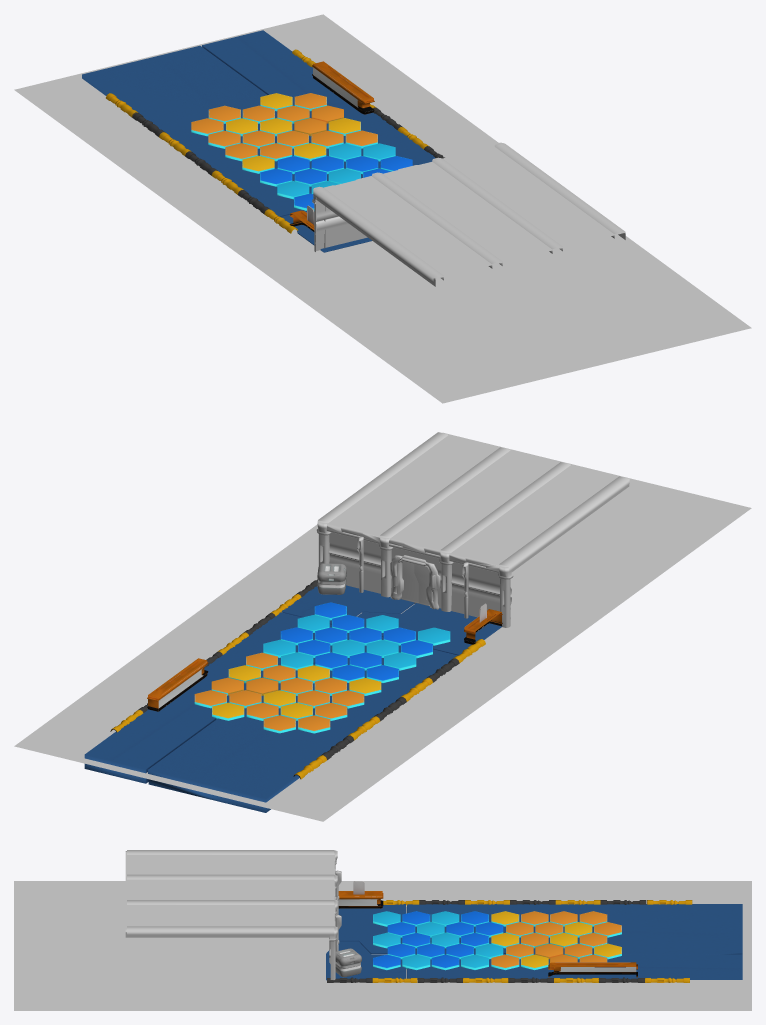
The model's file is Arena v3.fbx.
The picture shows the model from 3 angles, top to bottom: view 1: azimuth 30°, elevation 25°; view 2: azimuth 150°, elevation 25°; view 3: azimuth 270°, elevation 25°; orthographic projection. The views are drawn at different scales.
Visible parts, largest first — view 1: Plane.001, Plane.002; view 2: Plane.001, Plane.002; view 3: Plane.001, Plane.002.
Boxes of the visible parts, bbox=[...] form: Plane.001: bbox=[14, 14, 751, 403]; Plane.002: bbox=[191, 93, 412, 210]; Plane.001: bbox=[14, 432, 751, 821]; Plane.002: bbox=[194, 602, 450, 733]; Plane.001: bbox=[14, 850, 751, 1010]; Plane.002: bbox=[373, 911, 621, 970].
Size of the model in its own units: 1932 by 441 by 4638.
